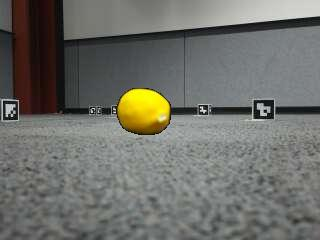lemon: (118, 89, 170, 135)
